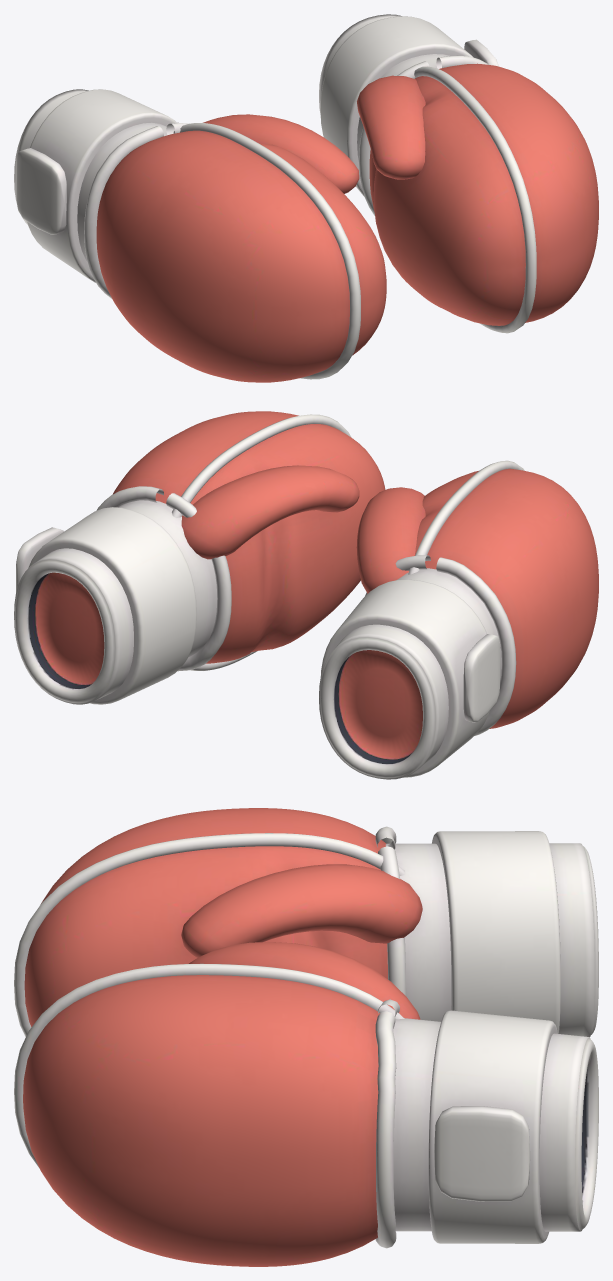
File: boxing-gloves.glb
3 renders of one model, top to bottom at view 1: azimuth 30°, elevation 25°; view 2: azimuth 150°, elevation 25°; view 3: azimuth 270°, elevation 25°, orthographic. The views are drawn at different scales.
Visible parts, largest first — view 1: boxing-gloves_body; view 2: boxing-gloves_body; view 3: boxing-gloves_body.
Part boxes in pixels (<box>): boxing-gloves_body: <box>14,14,598,382</box>; boxing-gloves_body: <box>14,411,598,779</box>; boxing-gloves_body: <box>14,808,598,1266</box>.
Size of the model in its own units: 0.3038 by 0.1379 by 0.2652.
1 material, 1 textured.
